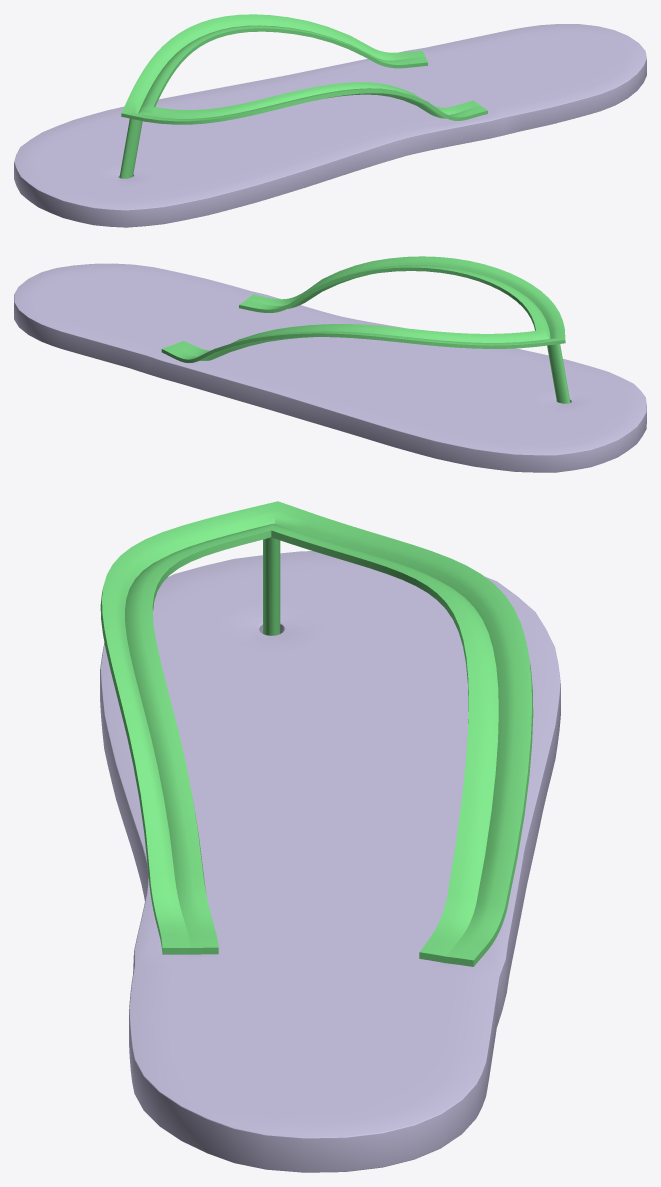
The model's file is tong2_t_.fbx.
3 views of the same model, one above another, from view 1: azimuth 30°, elevation 25°; view 2: azimuth 150°, elevation 25°; view 3: azimuth 270°, elevation 25° (orthographic). The views are drawn at different scales.
Visible parts, largest first — view 1: Chancletas OBJ; view 2: Chancletas OBJ; view 3: Chancletas OBJ.
Part boxes in pixels (<box>): Chancletas OBJ: <box>14,14,646,227</box>; Chancletas OBJ: <box>14,256,646,472</box>; Chancletas OBJ: <box>100,501,560,1172</box>.
Size of the model in its own units: 56.86 by 8.52 by 18.85.
